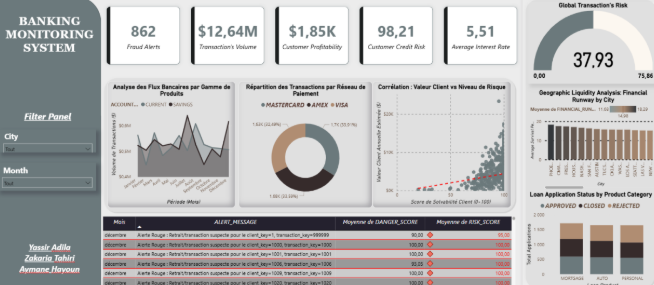

The dashboard page shown, as its layout file describes it:
{"tool":"powerbi","page":{"name":"Dashboard","canvas":[1800,800],"ordinal":1},"visuals":[{"type":"shape","box":[1428.3,0,369.2,799.9],"z":0},{"type":"shape","box":[279.6,214.3,1134.8,379.5],"z":1000},{"type":"shape","box":[0,0,280,800],"z":2000},{"type":"textbox","box":[0,70.2,280.7,111.5],"z":3000},{"type":"cardVisual","fields":{"Data":["CountNonNull(ALERTS_LOG.ALERT_ID)","Sum(FACT_TRANSACTIONS.TRANSACTION_AMOUNT)","Avg(FACT_TRANSACTIONS.CUSTOMER_PROFITABILITY)","Avg(FACT_TRANSACTIONS.GLOBAL_RISK_SCORE)","Avg(FACT_TRANSACTIONS.INTEREST_RATE)"]},"box":[266.6,0,1178.5,214.4],"z":4000},{"type":"tableEx","fields":{"Values":["ALERTS_LOG.ALERT_TIMESTAMP.Variation.Hiérarchie de dates.Mois","ALERTS_LOG.ALERT_MESSAGE","Avg(ALERTS_LOG.DANGER_SCORE)","Avg(ALERTS_LOG.RISK_SCORE)"]},"box":[279.7,594.8,1135.6,205.1],"z":5000},{"type":"scatterChart","title":"Corrélation : Valeur Client vs Niveau de Risque","fields":{"X":["Avg(FACT_TRANSACTIONS.GLOBAL_RISK_SCORE)"],"Y":["Sum(FACT_TRANSACTIONS.CUSTOMER_PROFITABILITY)"],"Category":["DIM_CUSTOMER.FULL_NAME"]},"box":[1020.4,232.4,377.7,345],"z":6000},{"type":"areaChart","title":"Analyse des Flux Bancaires par Gamme de Produits","fields":{"Y":["Sum(FACT_TRANSACTIONS.TRANSACTION_AMOUNT)"],"Category":["DIM_DATE.MONTH_NAME"],"Series":["DIM_PRODUCT.ACCOUNT_TYPE"]},"box":[298.3,233.1,348.7,345],"z":7000},{"type":"slicer","fields":{"Values":["DIM_DATE.MONTH_NAME"]},"box":[0,453.1,266.6,76.5],"z":8000},{"type":"slicer","fields":{"Values":["DIM_CUSTOMER.CITY"]},"box":[3.7,363.6,262.9,63.4],"z":9000},{"type":"donutChart","title":"Répartition des Transactions par Réseau de Paiement","fields":{"Y":["CountNonNull(FACT_TRANSACTIONS.TRANSACTIONID)"],"Category":["DIM_PRODUCT.CARD_TYPE"]},"box":[655.5,232.4,365,345],"z":10000},{"type":"gauge","title":"Global Transaction''s Risk","fields":{"Y":["Avg(FACT_TRANSACTIONS.TRANSACTION_DANGER_SCORE)"]},"box":[1445.1,14.9,354.3,223.8],"z":11000},{"type":"textbox","box":[65.3,304.6,149.2,48.5],"z":12000},{"type":"columnChart","title":"Loan Application Status by Product Category","fields":{"Category":["DIM_CUSTOMER.LOAN_TYPE"],"Series":["DIM_CUSTOMER.LOAN_STATUS"],"Y":["CountNonNull(DIM_CUSTOMER.LOAN_TYPE)"]},"box":[1432.1,529.6,367.3,270.4],"z":13000},{"type":"clusteredColumnChart","title":"Geographic Liquidity Analysis: Financial Runway by City","fields":{"Category":["DIM_CUSTOMER.CITY"],"Y":["Avg(FACT_TRANSACTIONS.FINANCIAL_RUNWAY_MONTHS)"]},"box":[1445.1,251.7,354.3,277.8],"z":14000}]}

Visuals, with their boxes in screenshot pixels (x1, y1, x2, y2), scaled from the page's 1800x800 canvas onto the 654x285 screenshot:
shape: <region>519, 0, 653, 284</region>
shape: <region>102, 76, 514, 212</region>
shape: <region>0, 0, 102, 284</region>
textbox: <region>0, 25, 102, 65</region>
cardVisual - CountNonNull(ALERTS_LOG.ALERT_ID) x Sum(FACT_TRANSACTIONS.TRANSACTION_AMOUNT): <region>97, 0, 525, 76</region>
tableEx - ALERTS_LOG.ALERT_TIMESTAMP.Variation.Hiérarchie de dates.Mois x ALERTS_LOG.ALERT_MESSAGE: <region>102, 212, 514, 284</region>
"Corrélation : Valeur Client vs Niveau de Risque" scatterChart: <region>371, 83, 508, 206</region>
"Analyse des Flux Bancaires par Gamme de Produits" areaChart: <region>108, 83, 235, 206</region>
slicer - DIM_DATE.MONTH_NAME: <region>0, 161, 97, 189</region>
slicer - DIM_CUSTOMER.CITY: <region>1, 130, 97, 152</region>
"Répartition des Transactions par Réseau de Paiement" donutChart: <region>238, 83, 371, 206</region>
"Global Transaction''s Risk" gauge: <region>525, 5, 653, 85</region>
textbox: <region>24, 109, 78, 126</region>
"Loan Application Status by Product Category" columnChart: <region>520, 189, 653, 284</region>
"Geographic Liquidity Analysis: Financial Runway by City" clusteredColumnChart: <region>525, 90, 653, 189</region>
